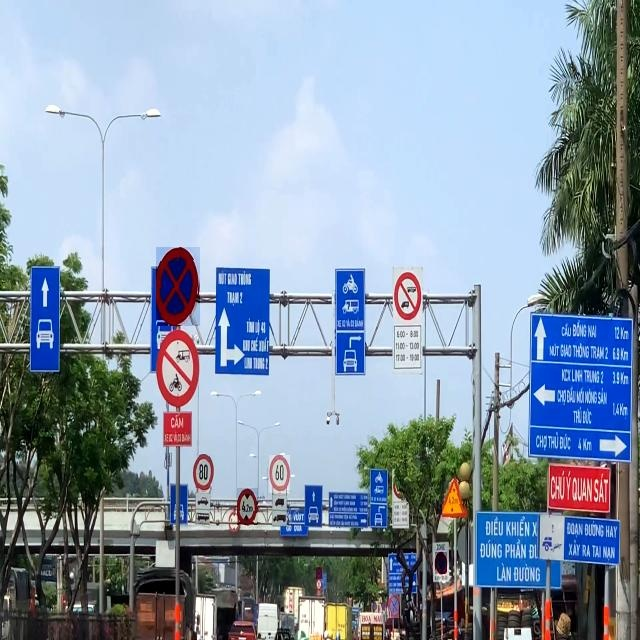bien_chi_dan: (156, 247, 200, 326), (442, 476, 468, 518), (193, 454, 214, 492), (269, 456, 290, 494), (237, 488, 258, 525), (435, 552, 447, 574), (388, 594, 399, 618), (316, 567, 322, 579)
